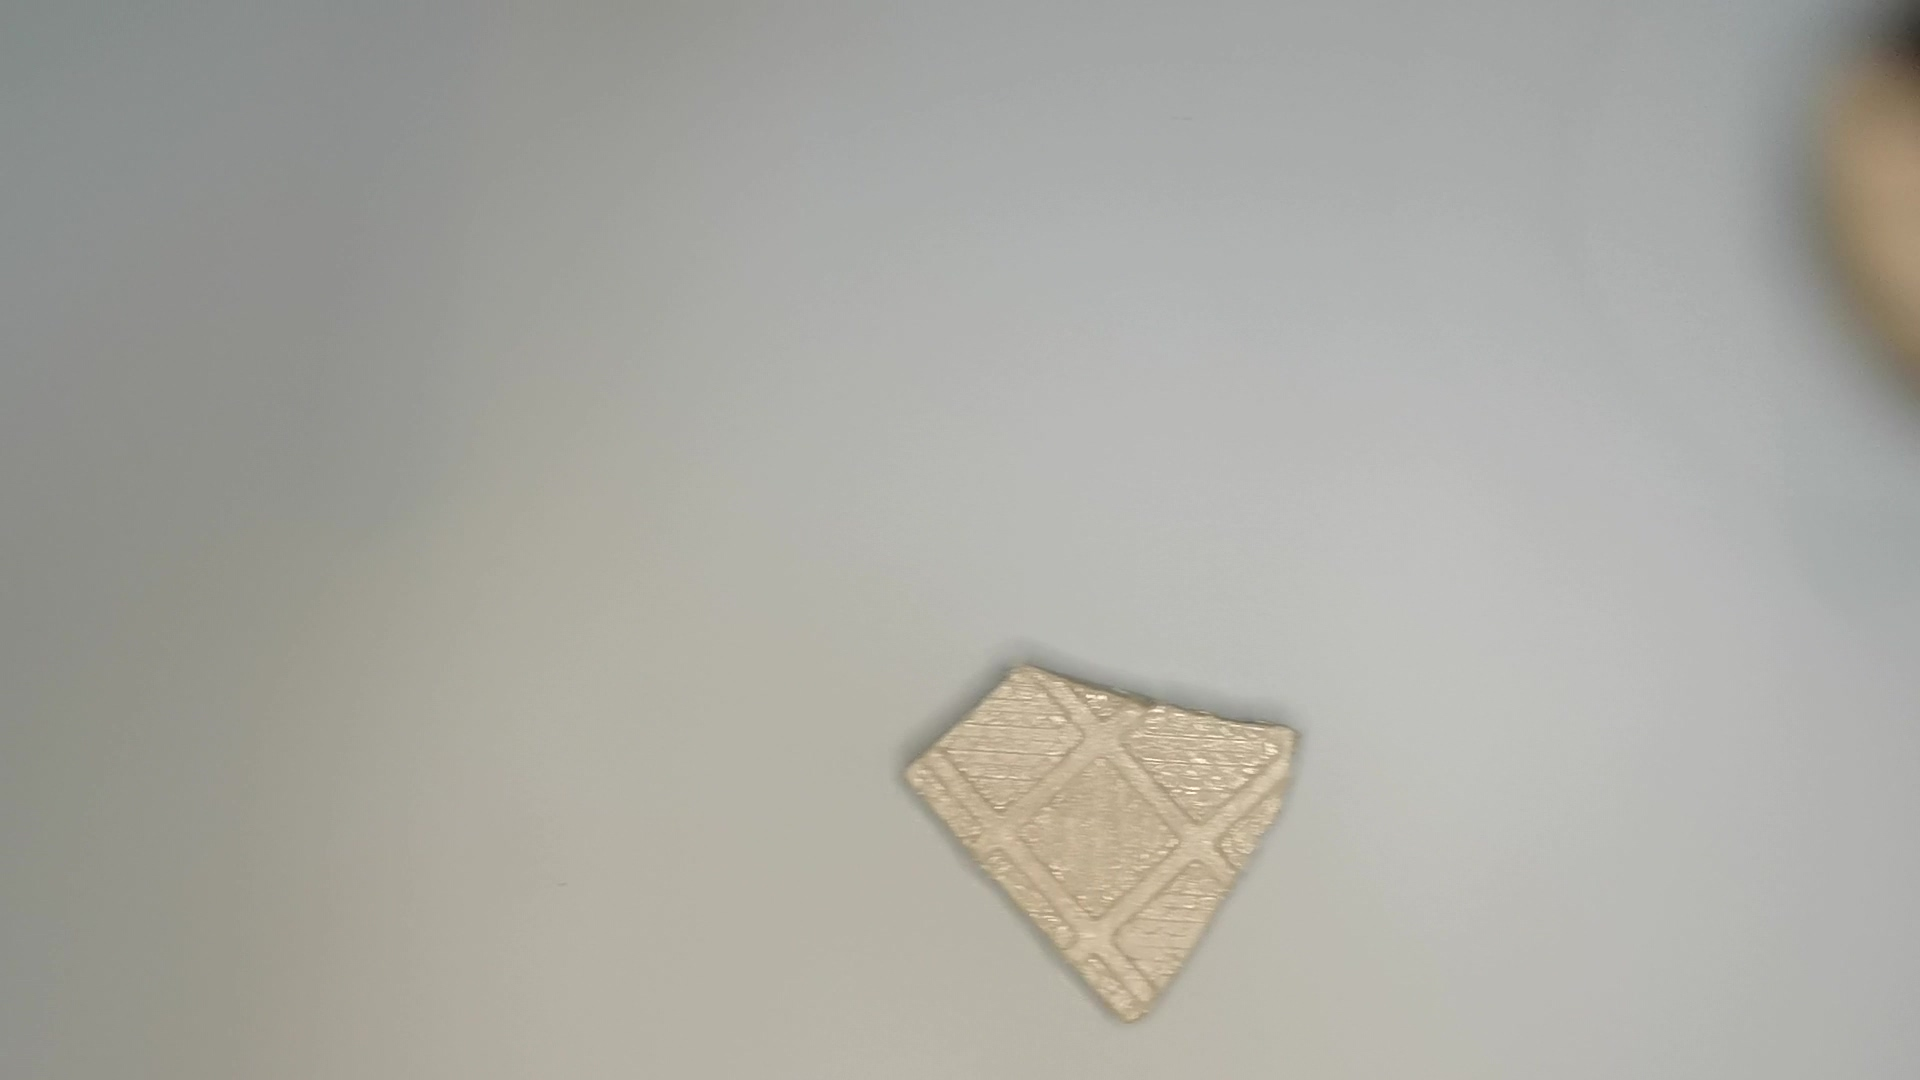ceramic: (891, 657, 1323, 1029)
